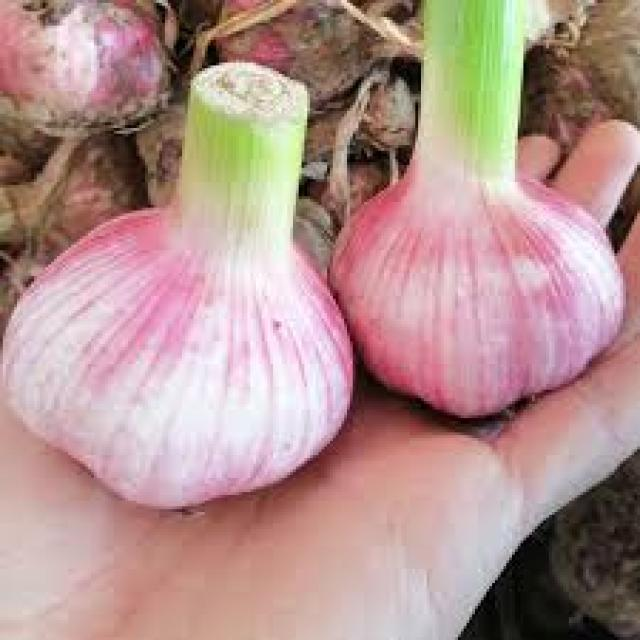Garlic: (1, 75, 368, 529), (327, 0, 640, 430)
